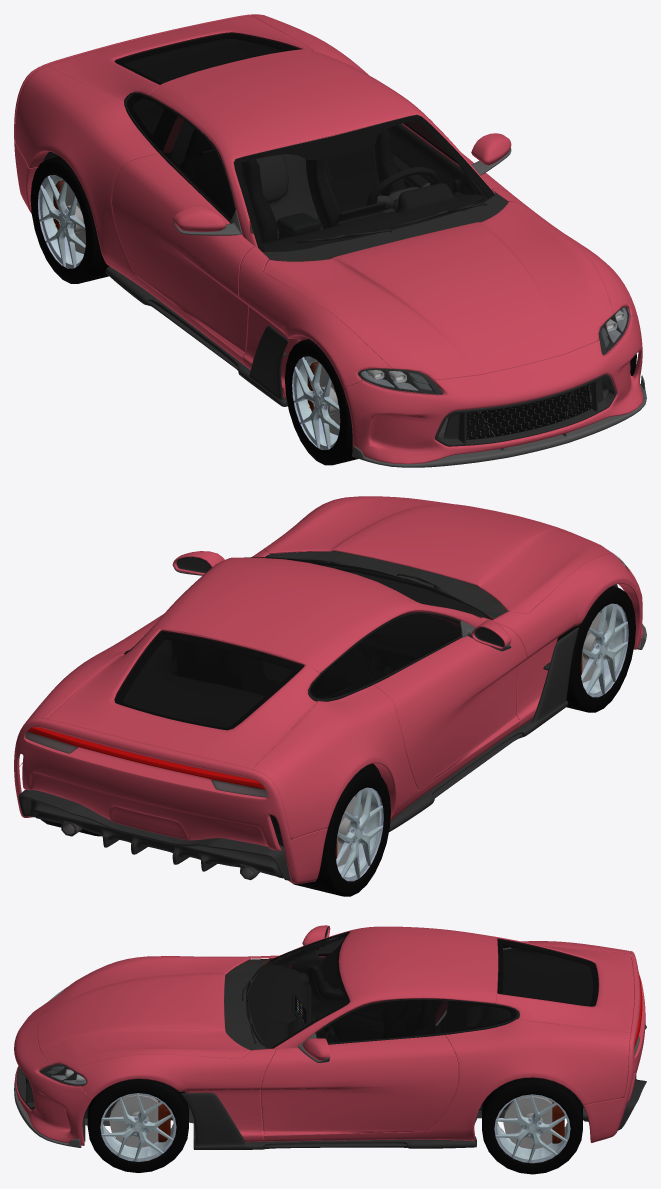
The model's file is coupe.glb.
3 renders of one model, top to bottom at view 1: azimuth 30°, elevation 25°; view 2: azimuth 150°, elevation 25°; view 3: azimuth 270°, elevation 25°, orthographic. The views are drawn at different scales.
Visible parts, largest first — view 1: hood_car-body_0, body_car-body_0, glass-windshield_Glass ext_0, front-bumper_car-body_0, door.r_car-body_0, side-fender.r_car-body_0, interior-roof-rear-trim_interior_0, trunk_car-body_0, seat-back-01_interior_0, glass-rear_Glass ext-tinted_0, dashboard-base_interior_0, body_black-metal_0 (+24 smaller); view 2: body_car-body_0, rear-bumper_car-body_0, hood_car-body_0, door.r_car-body_0, trunk_car-body_0, glass-rear_Glass ext-tinted_0, side-fender.r_car-body_0, rear-diffusor-v2_car-body_0, interior-roof-rear-trim_interior_0, dashboard-base_interior_0, window-front.r_Glass ext-tinted_0, side-fender-aero.r_car-body_0 (+15 smaller); view 3: body_car-body_0, hood_car-body_0, door.l_car-body_0, side-fender.l_car-body_0, glass-windshield_Glass ext_0, trunk_car-body_0, glass-rear_Glass ext-tinted_0, interior-roof-rear-trim_interior_0, front-bumper_car-body_0, side-fender-aero.l_car-body_0, window-front.l_Glass ext-tinted_0, tire-low.001_tire-low.001_0 (+22 smaller).
Part boxes in pixels (box(x1,y1,x2,y2)): hood_car-body_0: box(263, 201, 613, 380); body_car-body_0: box(15, 15, 495, 363); glass-windshield_Glass ext_0: box(234, 115, 494, 251); front-bumper_car-body_0: box(343, 314, 643, 463); door.r_car-body_0: box(111, 153, 254, 356); side-fender.r_car-body_0: box(238, 246, 391, 398); interior-roof-rear-trim_interior_0: box(124, 39, 490, 232); trunk_car-body_0: box(47, 15, 313, 102); seat-back-01_interior_0: box(306, 129, 406, 228); glass-rear_Glass ext-tinted_0: box(114, 32, 302, 84); dashboard-base_interior_0: box(263, 183, 488, 251); body_black-metal_0: box(127, 100, 494, 251); body_car-body_0: box(25, 557, 520, 839); rear-bumper_car-body_0: box(14, 718, 327, 883); hood_car-body_0: box(263, 496, 612, 613); door.r_car-body_0: box(374, 622, 527, 789); trunk_car-body_0: box(47, 628, 319, 768); glass-rear_Glass ext-tinted_0: box(114, 630, 304, 730); side-fender.r_car-body_0: box(492, 553, 637, 728); rear-diffusor-v2_car-body_0: box(18, 789, 290, 880); interior-roof-rear-trim_interior_0: box(123, 640, 351, 727); dashboard-base_interior_0: box(347, 571, 488, 671); window-front.r_Glass ext-tinted_0: box(353, 612, 461, 681); side-fender-aero.r_car-body_0: box(389, 627, 578, 831); body_car-body_0: box(260, 926, 630, 1141); hood_car-body_0: box(37, 956, 250, 1068); door.l_car-body_0: box(260, 1035, 458, 1135); side-fender.l_car-body_0: box(72, 1048, 275, 1142); glass-windshield_Glass ext_0: box(245, 932, 349, 1048); trunk_car-body_0: box(495, 937, 634, 1032); glass-rear_Glass ext-tinted_0: box(497, 938, 598, 1006); interior-roof-rear-trim_interior_0: box(267, 936, 592, 1053); front-bumper_car-body_0: box(14, 1001, 92, 1145); side-fender-aero.l_car-body_0: box(181, 1092, 476, 1149); window-front.l_Glass ext-tinted_0: box(316, 998, 448, 1042); tire-low.001_tire-low.001_0: box(482, 1077, 582, 1174).
Bounding box in the file's own units: 2.27 × 1.35 × 4.73.
20 materials, 7 textured.
